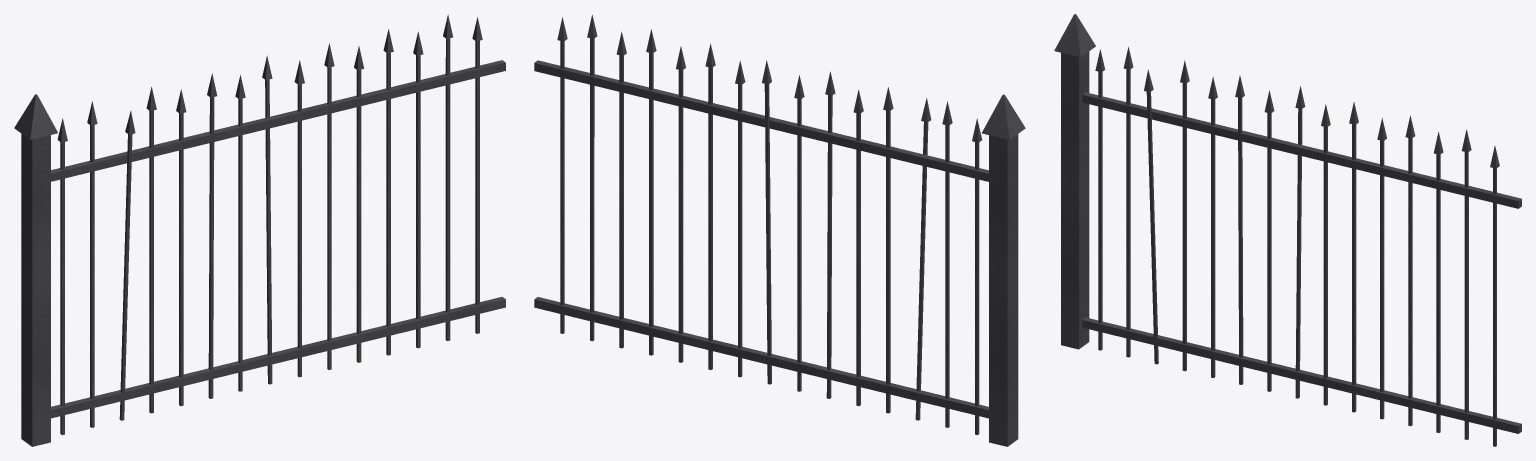
Rendered from fence_iron.glb.
3 views of the same model, side by side, from view 1: azimuth 30°, elevation 25°; view 2: azimuth 150°, elevation 25°; view 3: azimuth 330°, elevation 25° (orthographic). The views are drawn at different scales.
Visible parts, largest first — view 1: fence-col; view 2: fence-col; view 3: fence-col.
Part boxes in pixels (x1,y1,x2,y2): fence-col: (14,14,505,446); fence-col: (534,15,1025,446); fence-col: (1054,14,1521,446).
Bounding box in the file's own units: 3.09 × 2.12 × 0.2033.
Materials: 1 (1 with a texture image).
